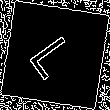L_NE: (25, 27, 85, 83)
